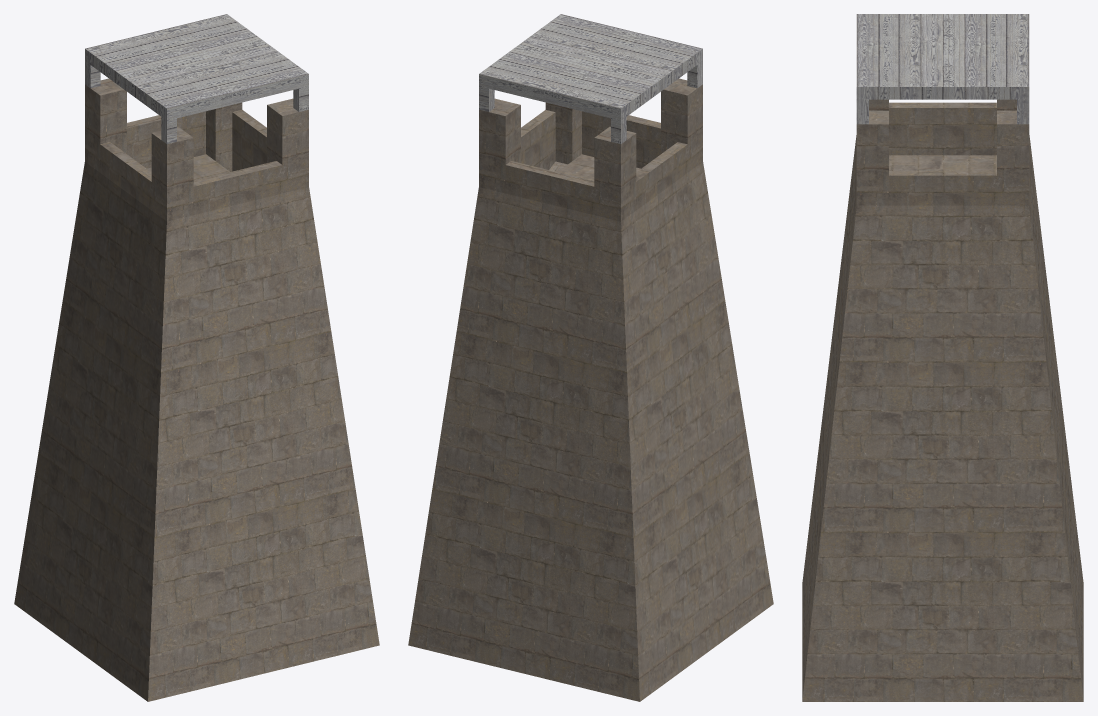
The model's file is TowerV1.FBX.
The picture shows the model from 3 angles, left to right: view 1: azimuth 30°, elevation 25°; view 2: azimuth 150°, elevation 25°; view 3: azimuth 270°, elevation 25°; orthographic projection. The views are drawn at different scales.
Visible parts, largest first — view 1: Box001, Shape, Roof; view 2: Box001, Shape, Roof; view 3: Box001, Shape, Roof.
Part boxes in pixels (<box>): Box001: <box>14,78,379,701</box>; Shape: <box>85,14,308,120</box>; Roof: <box>85,60,308,144</box>; Box001: <box>408,78,773,701</box>; Shape: <box>479,14,702,119</box>; Roof: <box>479,61,702,144</box>; Box001: <box>802,99,1083,701</box>; Shape: <box>856,14,1029,99</box>; Roof: <box>856,98,1029,124</box>.
Size of the model in its own units: 200 by 465 by 200.
